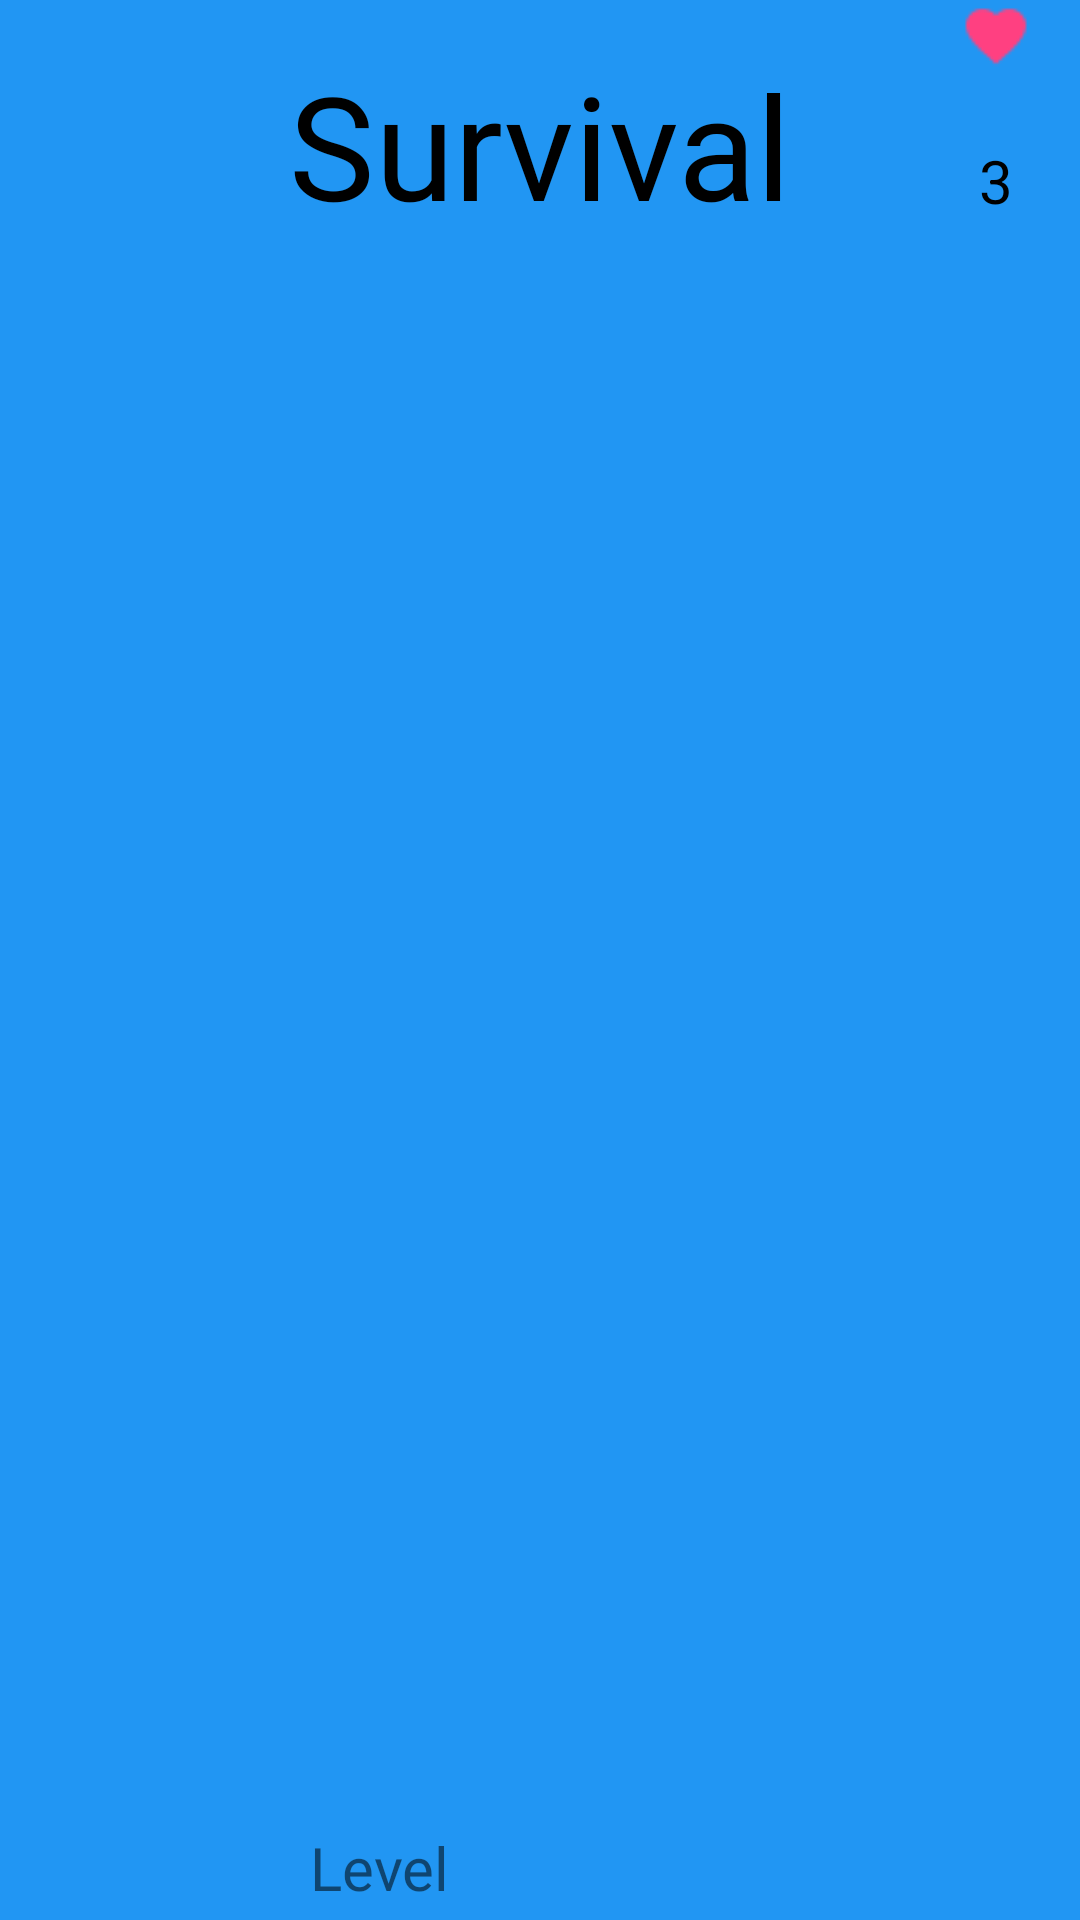

Icons on this 1080px×1920px Android screen, each with the point to tap as (x=x, y=y):
heart: (x=996, y=36)
